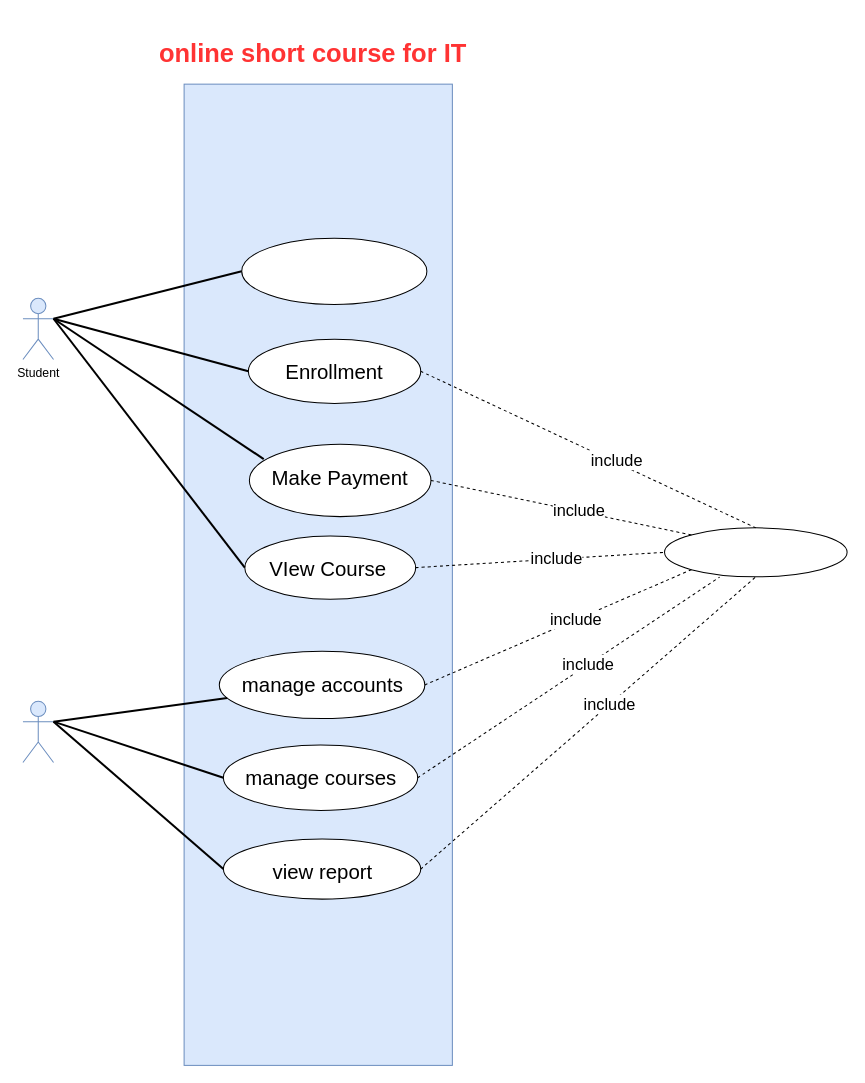
Image size: 865x1083. Some labels were removed from this diagram. The box of each missing label's shape, as (x1, y1, x2, y2) in pixels:
admin: (22, 700, 54, 762)
Authentication: (664, 527, 847, 577)
Homepage: (241, 237, 427, 304)
